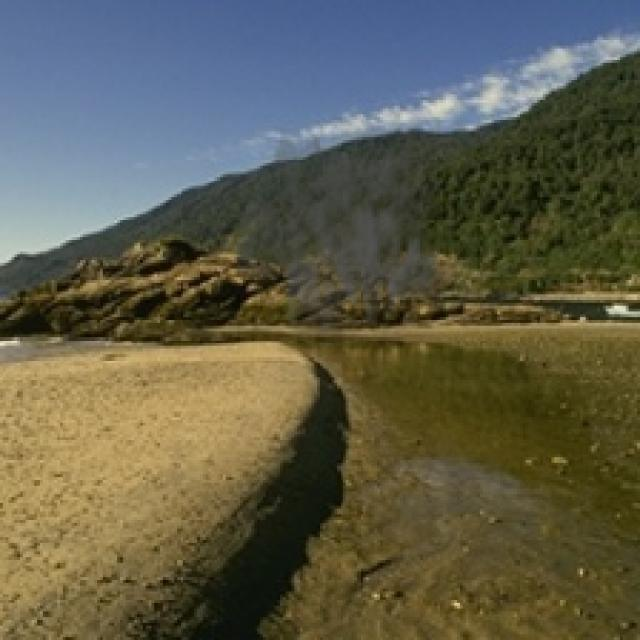smoke: (237, 105, 457, 348)
